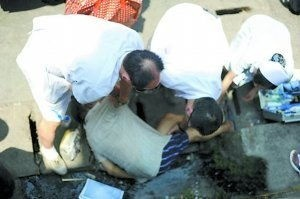fall: (62, 81, 235, 199)
